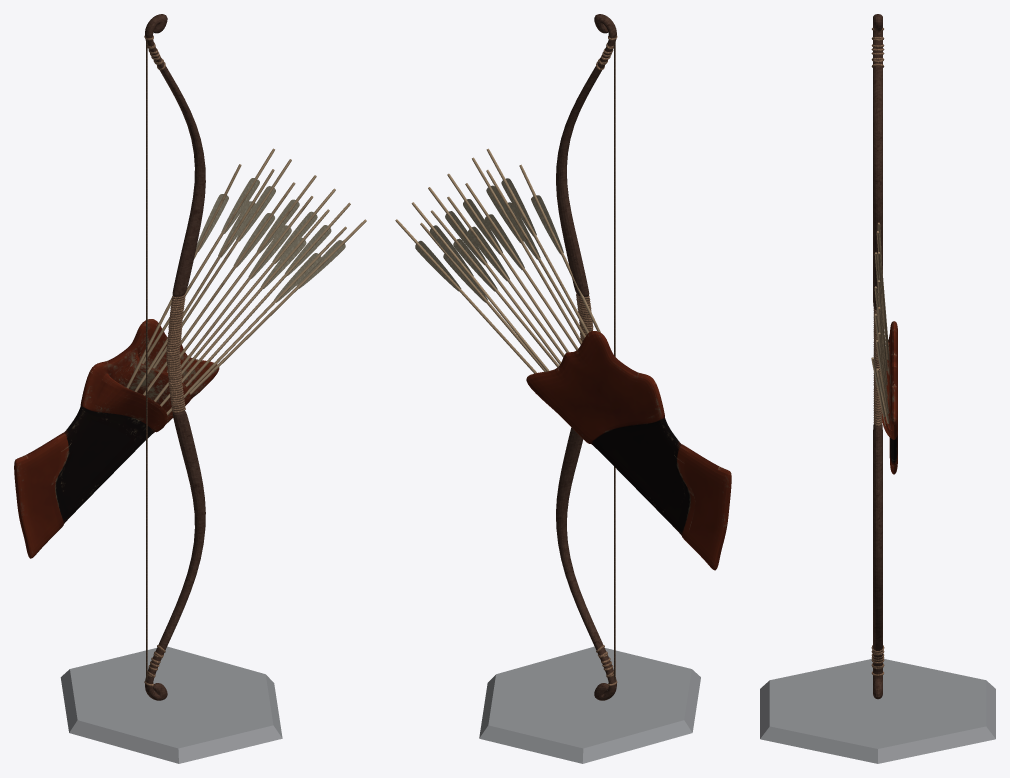
File: Ranged.fbx
3 renders of one model, left to right at view 1: azimuth 30°, elevation 25°; view 2: azimuth 150°, elevation 25°; view 3: azimuth 270°, elevation 25°, orthographic.
Parts seen in each view (by area): view 1: Piece Base; view 2: Piece Base; view 3: Piece Base.
Part boxes in pixels (x1,y1,x2,y2): Piece Base: (14, 14, 366, 763); Piece Base: (395, 14, 731, 763); Piece Base: (760, 14, 995, 763).
Size of the model in its own units: 82.99 by 161 by 49.5.
